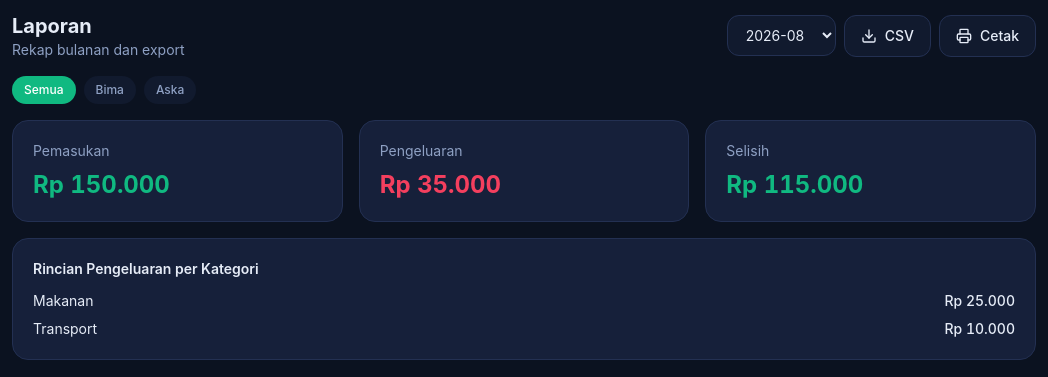
Test case: ReportsPage › narrows the report to the selected owner
Check: the text "Rp 150.000" is shown, box [33,170,170,199]
Check: the text "Makanan" is shown, box [33,291,94,311]
Click the button "Aska" at [170, 90], box [144,76,196,104]
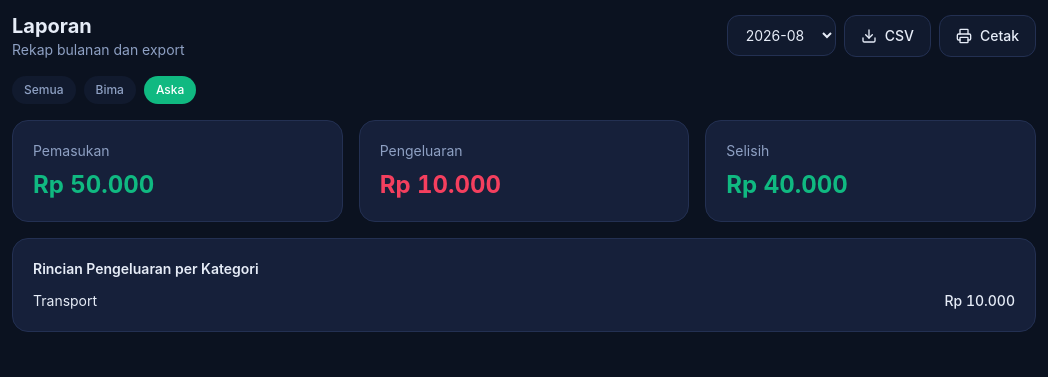
Check: the text "Rp 50.000" is shown, box [33,170,154,199]
Check: the text "Rp 40.000" is shown, box [726,170,848,199]
Check: the text "Makanan" is gone
